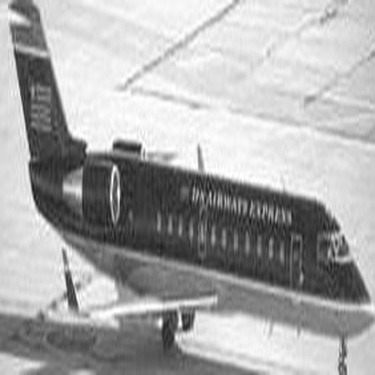airplane: (1, 5, 368, 373)
